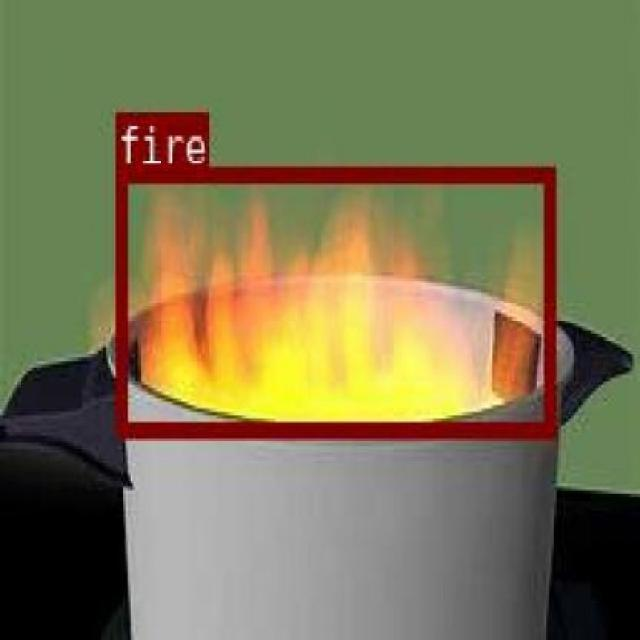Fire: (334, 273, 437, 300)
